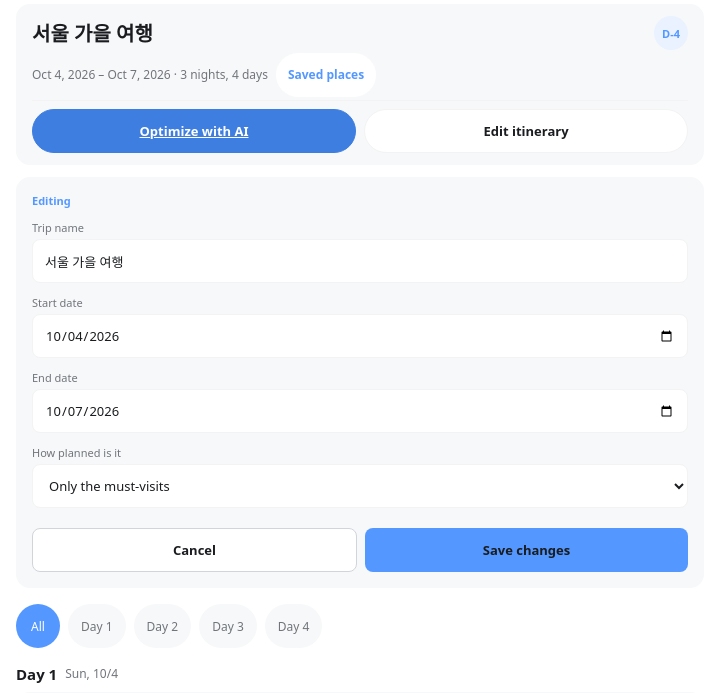
FE-302-T2 view and edit are separate modes › blocks a save that breaks a contract limit
This screenshot has width=705, height=693.
Clear the field labelled "Trip name" at (360, 261), box x1=32 y1=239 x2=688 y2=283
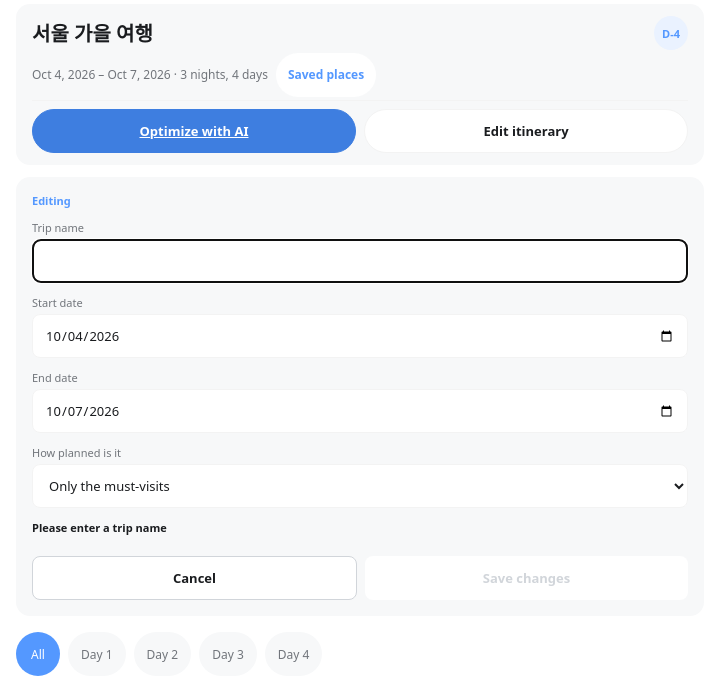
Check: the message reads "Please enter a trip name", box x1=32 y1=520 x2=167 y2=535
Check: the button "Save changes" is disabled, box x1=365 y1=556 x2=688 y2=600
